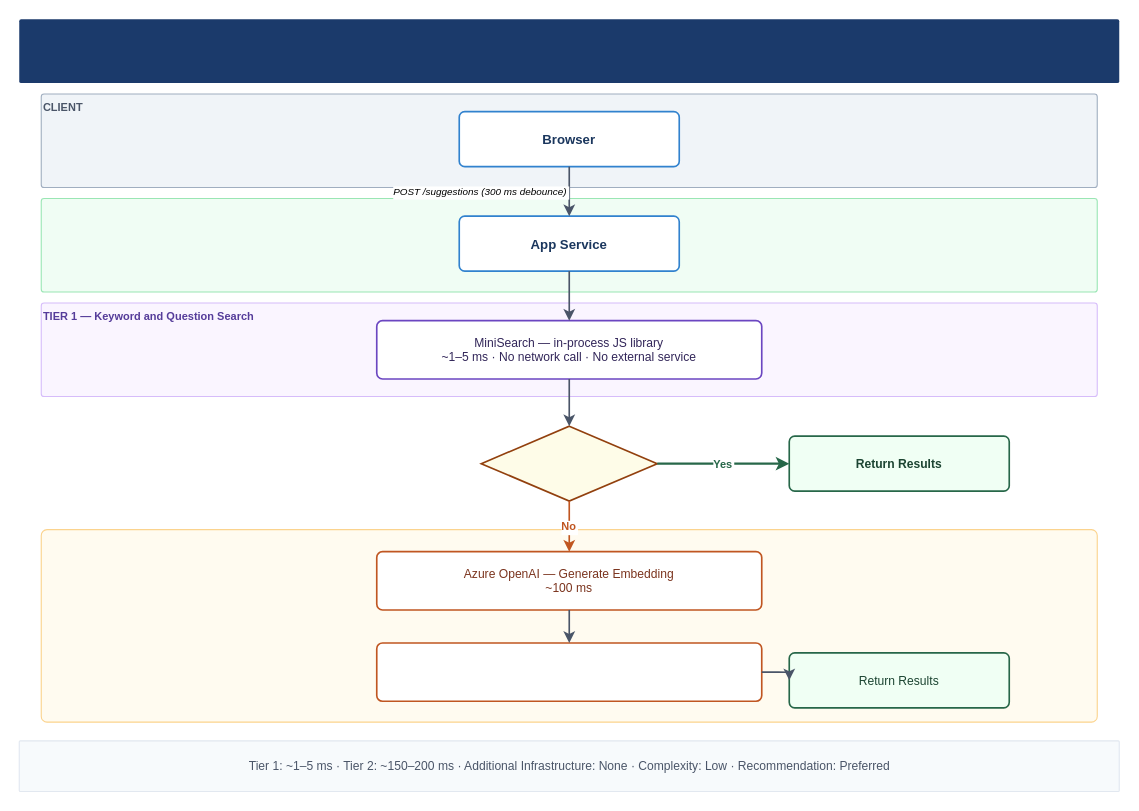
This 1139x811 diagram has some shape labels left out. Here are the shapes that lost their labels. From the top down, the box of each, then its label:
(19, 19, 1119, 82): Option A — MiniSearch (In-Process)
(40, 197, 1097, 292): APPLICATION — App Service (Cloud Foundry)
(480, 425, 658, 501): Results Meet Threshold?
(40, 529, 1097, 722): TIER 2 — Semantic Fallback (Azure)
(375, 642, 762, 702): Azure AI Search — Vector KNN ~150–200 ms total end-to-end
